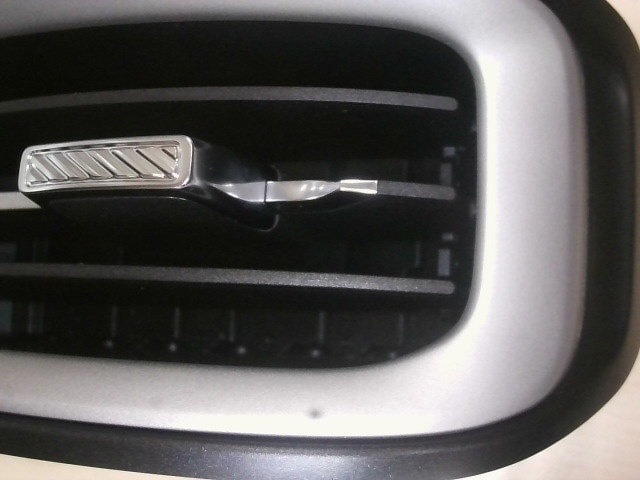NG: (493, 319, 550, 352)
